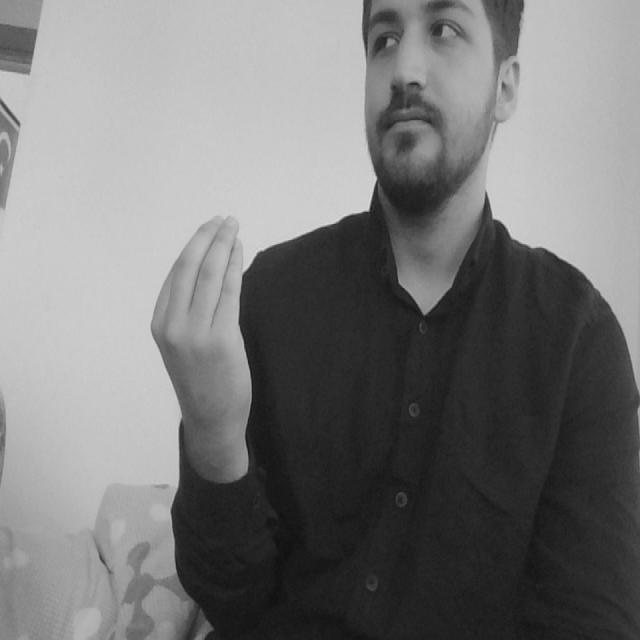iyi: (143, 214, 255, 356)
